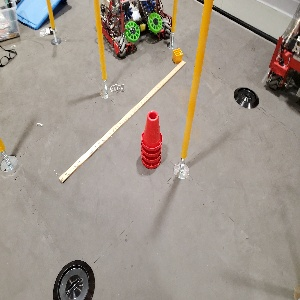Red_4: (140, 110, 161, 169)
